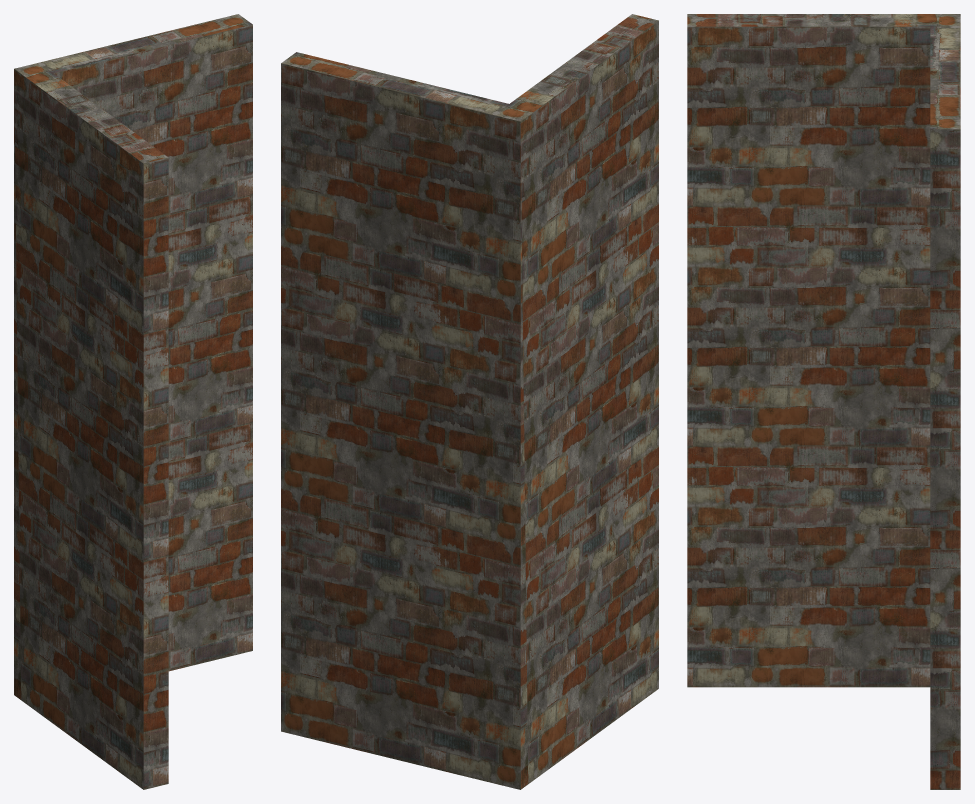
The model's file is wall_basic_DER.glb.
The picture shows the model from 3 angles, left to right: view 1: azimuth 30°, elevation 25°; view 2: azimuth 150°, elevation 25°; view 3: azimuth 270°, elevation 25°; orthographic projection. The views are drawn at different scales.
Parts seen in each view (by area): view 1: WALL.010 (×4), WALL.007, WALL.009, WALL.001, WALL.008; view 2: WALL.010 (×4), WALL.003, WALL.009, WALL.002, WALL.001, WALL.008; view 3: WALL.006, WALL.005, WALL.001, WALL.010.
Boxes of the visible parts, x1,y1,x2,y2 form: WALL.010 (×4): (14, 69, 168, 789); WALL.007: (53, 24, 252, 671); WALL.009: (28, 79, 143, 789); WALL.001: (14, 14, 252, 163); WALL.008: (14, 77, 21, 699); WALL.010 (×4): (281, 14, 658, 783); WALL.003: (281, 63, 493, 782); WALL.009: (536, 111, 658, 778); WALL.002: (494, 115, 520, 789); WALL.001: (281, 21, 657, 121); WALL.008: (520, 141, 528, 789); WALL.006: (687, 26, 930, 687); WALL.005: (930, 129, 960, 789); WALL.001: (691, 14, 960, 129); WALL.010: (687, 14, 923, 26).
Bounding box in the file's own units: 1.13 × 3 × 1.13.
2 materials, 2 textured.
